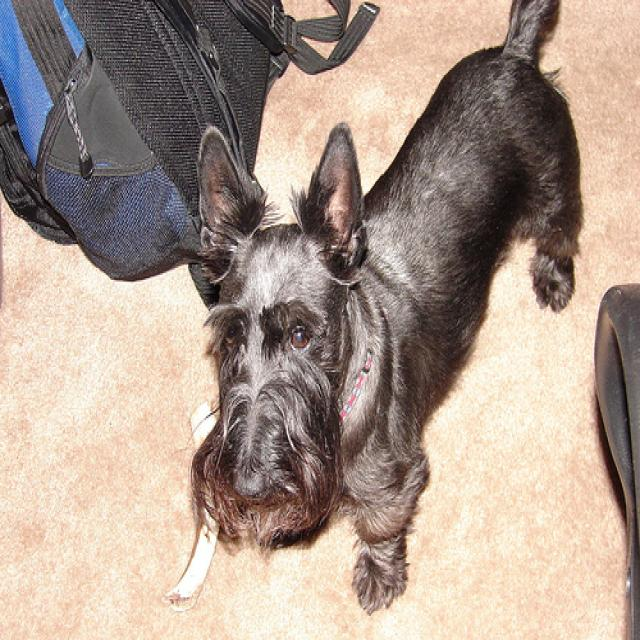dog: (194, 120, 363, 505)
